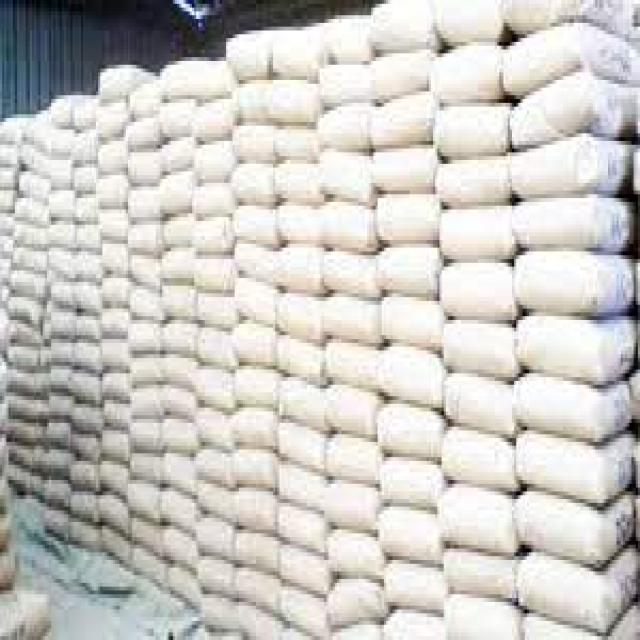cement_bag: (518, 544, 638, 635), (506, 26, 637, 97), (514, 76, 639, 142), (518, 371, 632, 443), (516, 436, 633, 506), (520, 495, 632, 565), (519, 313, 637, 379), (513, 135, 632, 196), (516, 260, 635, 312), (442, 421, 518, 495), (515, 199, 629, 244), (442, 376, 513, 443), (439, 485, 515, 542), (439, 204, 512, 260), (442, 268, 514, 322), (434, 102, 506, 156), (379, 500, 442, 561), (378, 353, 444, 405), (379, 461, 441, 516), (371, 45, 430, 102), (241, 76, 317, 120), (377, 405, 444, 454), (442, 324, 512, 369), (440, 156, 508, 201), (450, 552, 512, 601), (373, 94, 428, 149), (434, 54, 500, 99), (327, 431, 384, 483), (370, 147, 436, 190), (277, 500, 325, 559), (383, 301, 440, 350), (329, 578, 381, 630), (325, 341, 382, 388), (274, 241, 324, 291), (378, 251, 430, 298), (325, 303, 381, 346), (326, 256, 374, 306), (280, 545, 327, 596), (326, 481, 378, 526), (273, 35, 324, 80), (235, 447, 278, 499), (196, 371, 240, 421), (320, 156, 371, 199), (276, 338, 323, 384), (386, 573, 440, 613), (329, 537, 378, 580), (277, 424, 321, 471), (277, 293, 320, 341), (160, 457, 202, 506), (234, 201, 276, 249), (320, 210, 369, 251), (281, 379, 325, 424), (381, 199, 433, 237), (230, 530, 278, 571), (279, 589, 323, 632), (236, 488, 276, 535), (280, 468, 325, 508), (320, 64, 366, 103), (166, 61, 227, 90), (133, 511, 167, 563), (236, 275, 275, 320), (231, 405, 272, 445), (195, 97, 233, 138), (331, 22, 373, 59), (196, 443, 234, 483), (235, 374, 277, 410), (100, 493, 130, 543), (160, 492, 199, 530), (320, 111, 363, 145), (191, 182, 235, 215), (234, 329, 274, 365), (161, 133, 193, 178), (231, 35, 267, 74), (164, 283, 199, 323), (160, 178, 195, 218), (101, 458, 130, 506), (161, 353, 198, 390), (128, 450, 165, 485), (196, 294, 233, 329), (131, 381, 161, 423), (196, 258, 232, 293), (196, 148, 235, 180), (130, 549, 165, 584), (193, 220, 228, 255), (199, 338, 235, 372), (277, 168, 314, 201), (129, 153, 161, 191), (126, 322, 160, 357), (162, 106, 198, 139), (10, 372, 48, 403), (201, 561, 234, 596), (10, 395, 45, 428), (101, 526, 130, 565), (128, 116, 159, 152), (200, 525, 233, 558), (130, 257, 160, 293), (98, 341, 129, 375), (275, 133, 312, 161), (97, 102, 124, 140), (69, 460, 101, 492), (162, 420, 193, 453), (130, 224, 163, 255), (162, 249, 193, 282), (72, 401, 102, 434), (46, 452, 76, 485), (49, 252, 77, 287), (50, 124, 75, 163), (72, 374, 102, 406), (131, 422, 160, 454), (9, 298, 43, 325), (70, 494, 99, 525), (100, 308, 130, 337), (15, 272, 44, 302), (49, 311, 76, 343), (103, 273, 129, 306), (99, 148, 129, 176), (103, 432, 128, 465), (76, 225, 101, 256), (9, 348, 41, 372), (99, 180, 127, 207), (50, 190, 74, 221), (46, 423, 72, 451), (43, 481, 68, 510), (74, 343, 99, 372), (75, 432, 99, 462), (78, 285, 101, 316), (100, 216, 128, 241), (132, 190, 158, 215), (103, 248, 128, 274), (103, 376, 127, 403), (78, 254, 101, 282), (76, 198, 97, 225), (74, 166, 95, 193), (78, 319, 98, 343)
